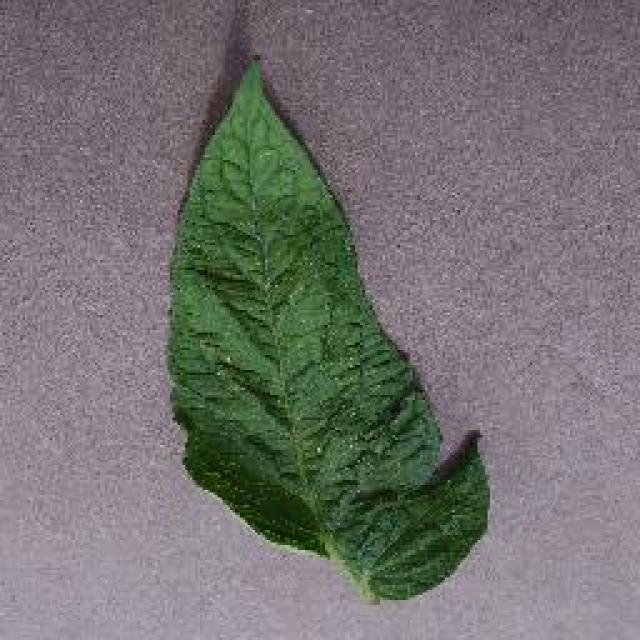Tomato___Spider_mites Two-spotted_spider_mite: (170, 60, 488, 598)
